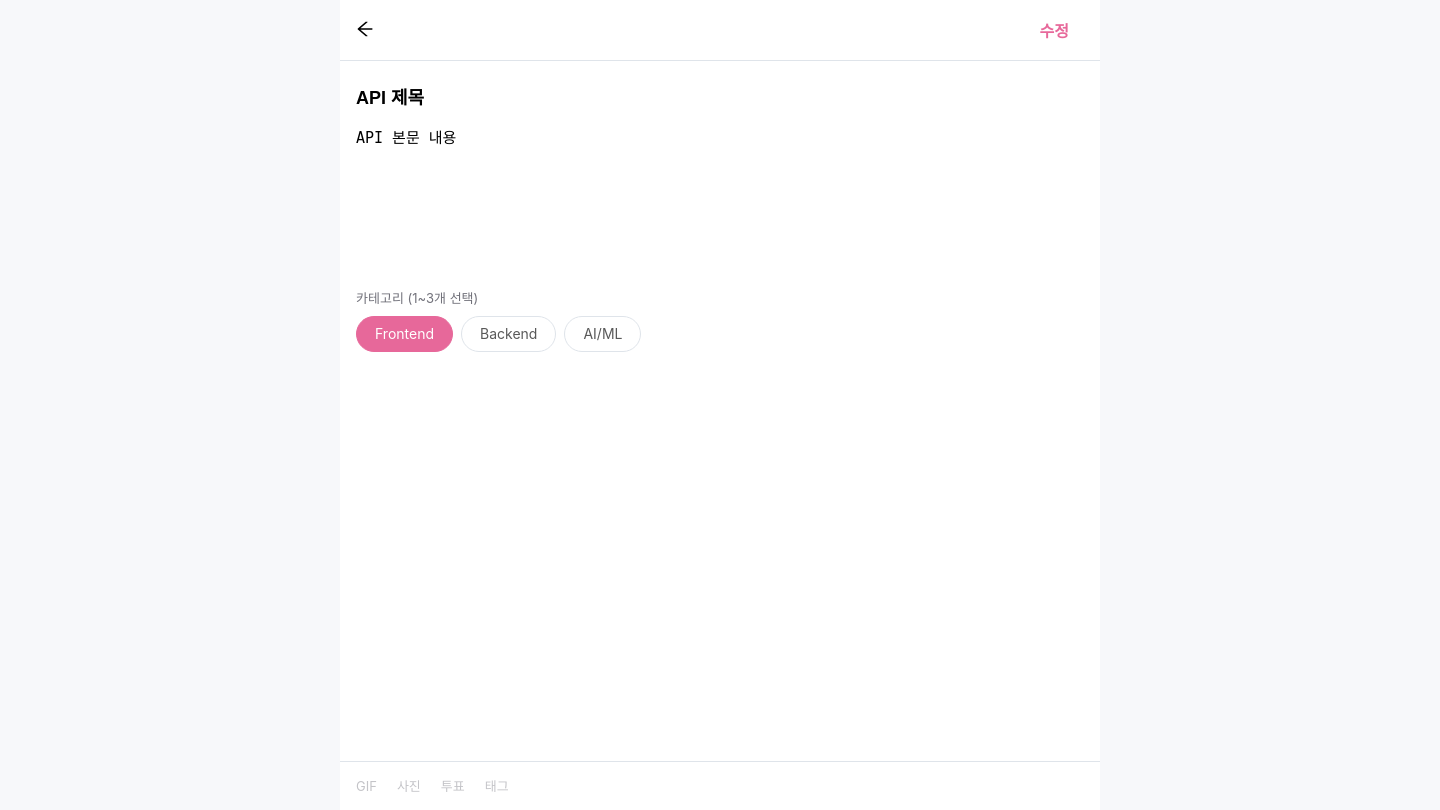
Test: CommunityEdit › 내용을 비우면 수정 버튼이 비활성화된다
The image size is (1440, 810).
Clear the text box showing "API 본문 내용" at (720, 194), box [356,114,1084,274]
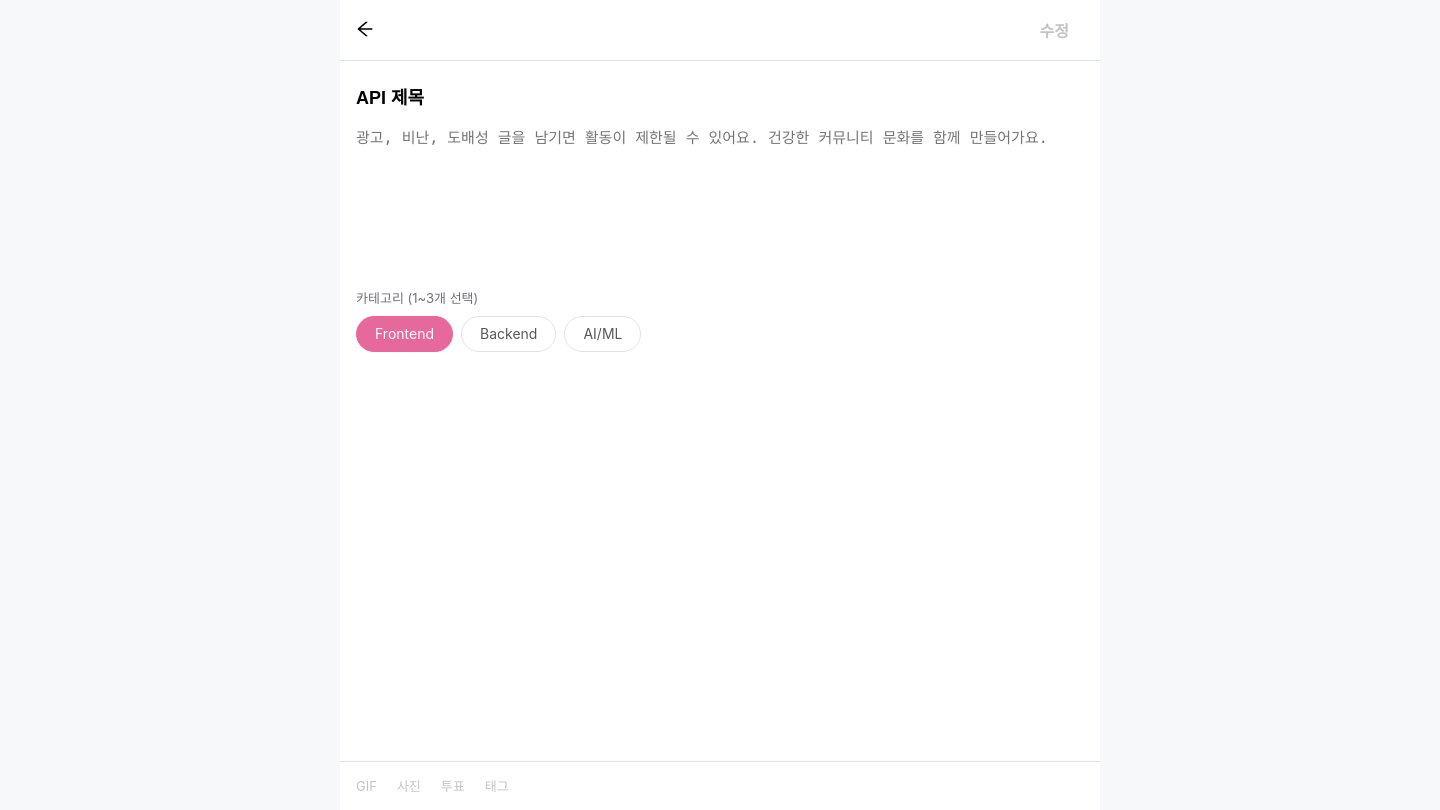
Now the button "수정" is disabled, box [1024,14,1084,46]
